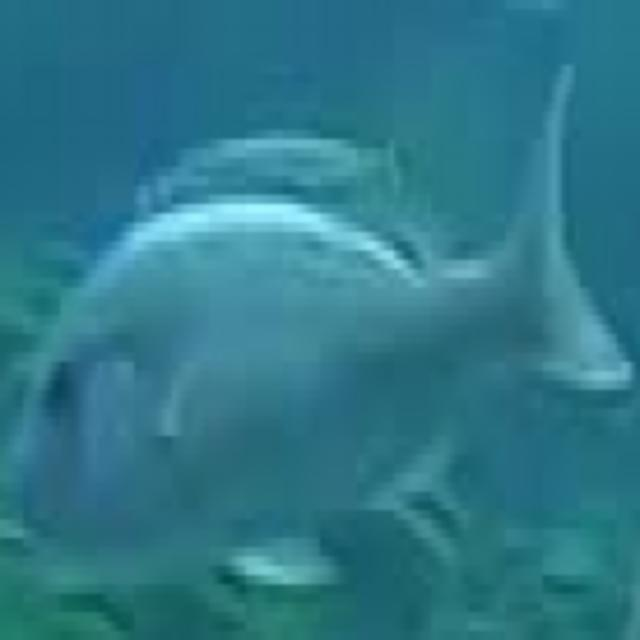fish: (4, 9, 640, 639)
